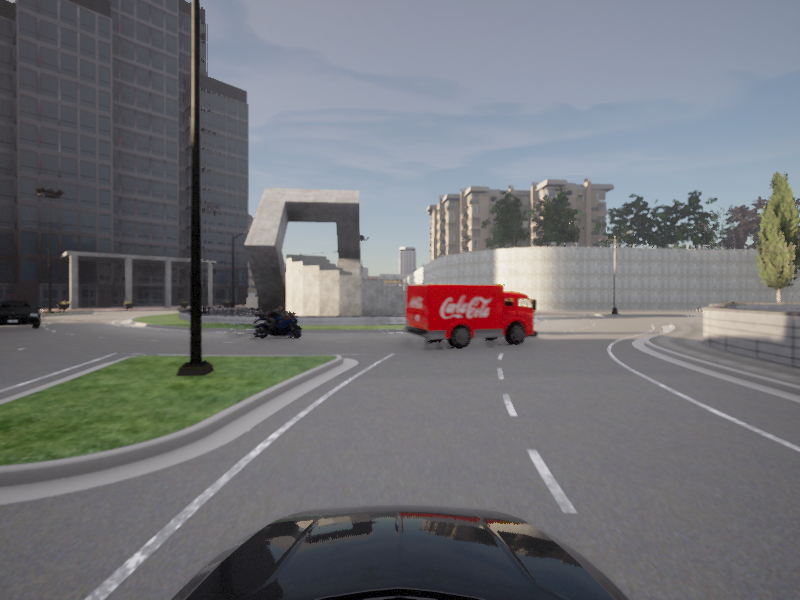vehicle: (402, 283, 545, 351), (250, 306, 304, 340), (0, 299, 41, 332)
